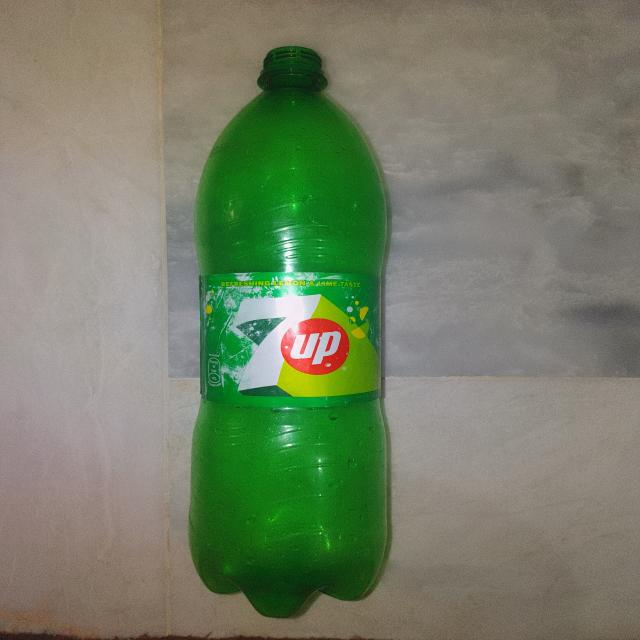bottle: (180, 35, 414, 627)
label: (188, 258, 396, 416)
